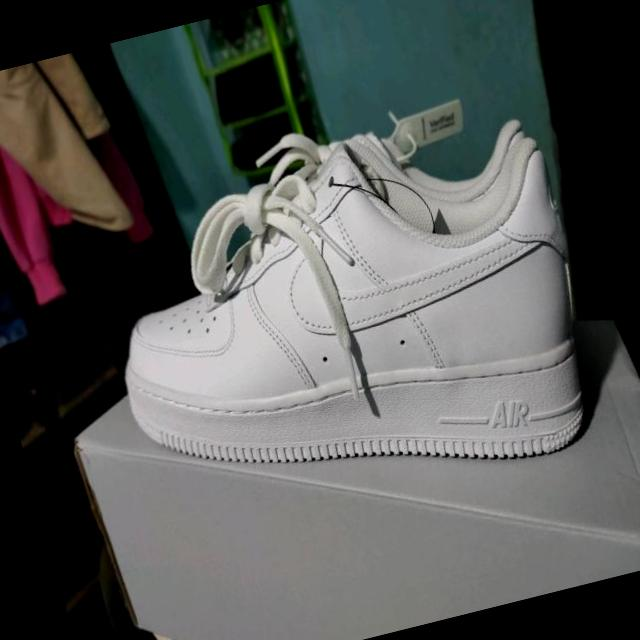nike_original_airforce: (80, 99, 614, 549)
